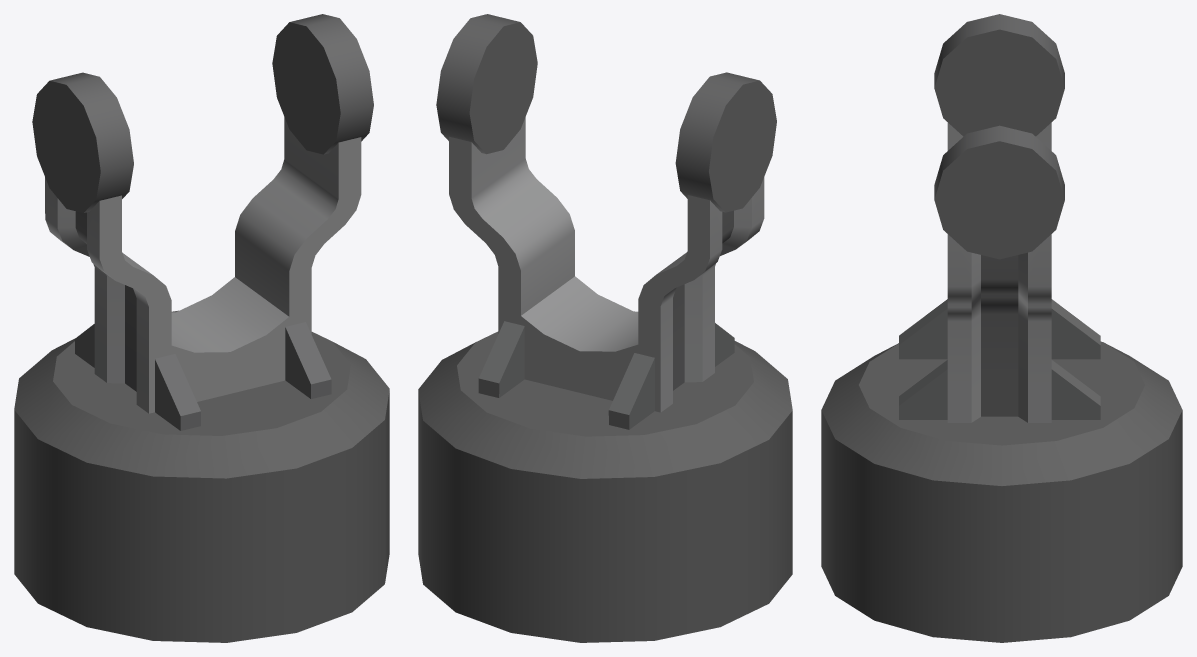
File: Turret_012_Part_01.fbx
The picture shows the model from 3 angles, left to right: view 1: azimuth 30°, elevation 25°; view 2: azimuth 150°, elevation 25°; view 3: azimuth 270°, elevation 25°; orthographic projection. The views are drawn at different scales.
Visible parts, largest first — view 1: Turret_012_Part_01; view 2: Turret_012_Part_01; view 3: Turret_012_Part_01.
Part boxes in pixels (x1,y1,x2,y2): Turret_012_Part_01: [14, 14, 389, 642]; Turret_012_Part_01: [418, 14, 792, 642]; Turret_012_Part_01: [821, 14, 1182, 642].
Bounding box in the file's own units: 70.5 × 70.49 × 105.
